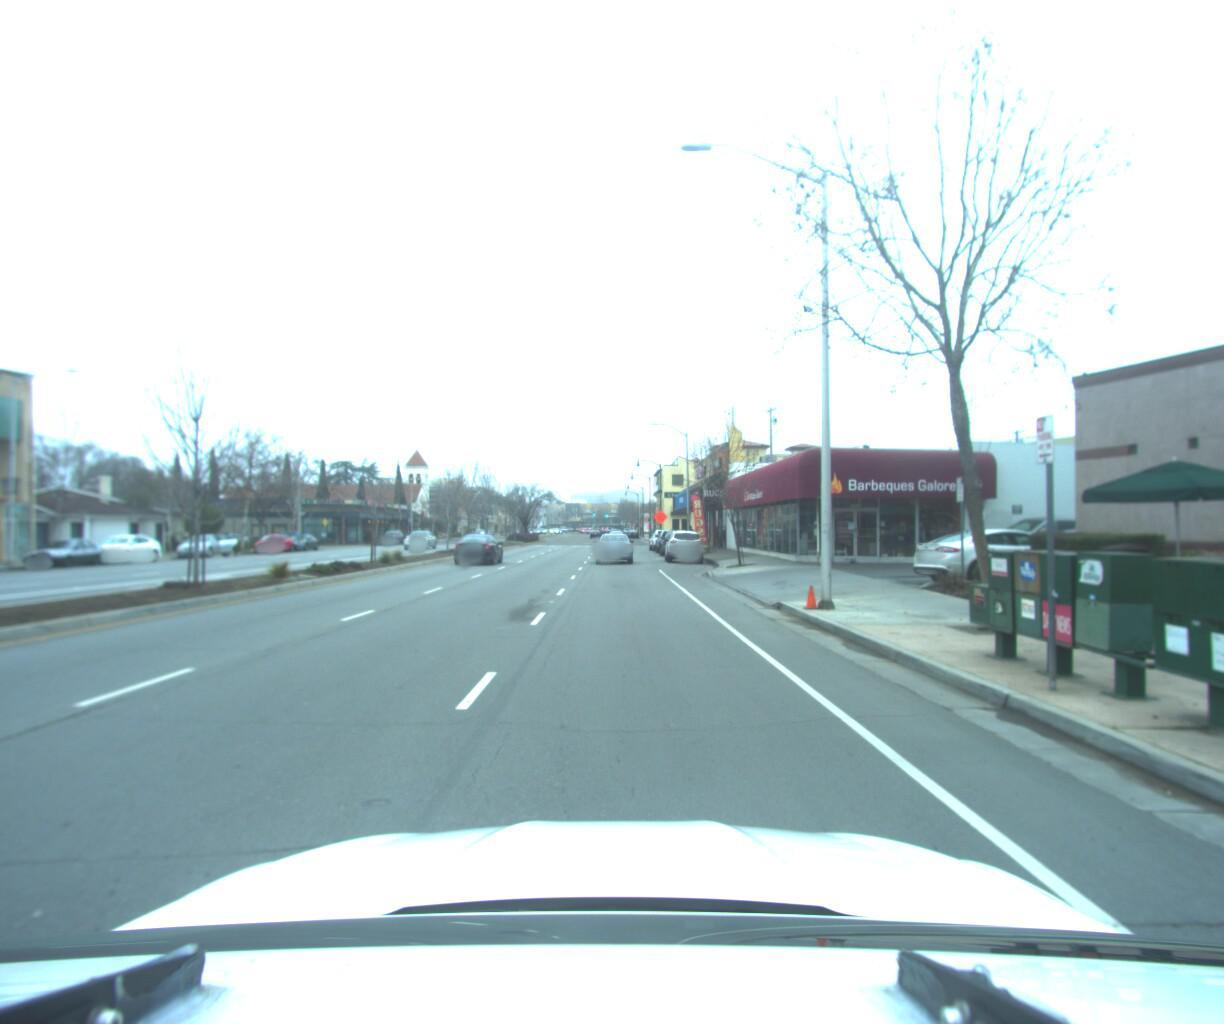car: (903, 522, 1104, 585), (22, 536, 112, 570), (80, 533, 168, 566), (448, 529, 506, 564), (175, 532, 235, 560), (593, 523, 635, 562), (665, 524, 708, 560), (279, 530, 323, 551), (254, 531, 298, 552), (399, 527, 437, 547)
